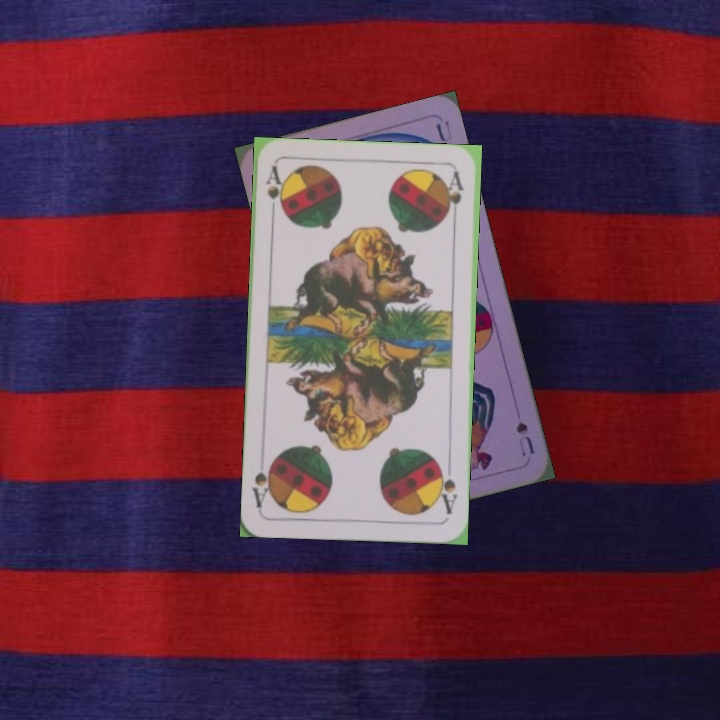SA: (434, 458, 460, 517), (261, 162, 286, 221)
SU: (512, 418, 537, 459)
